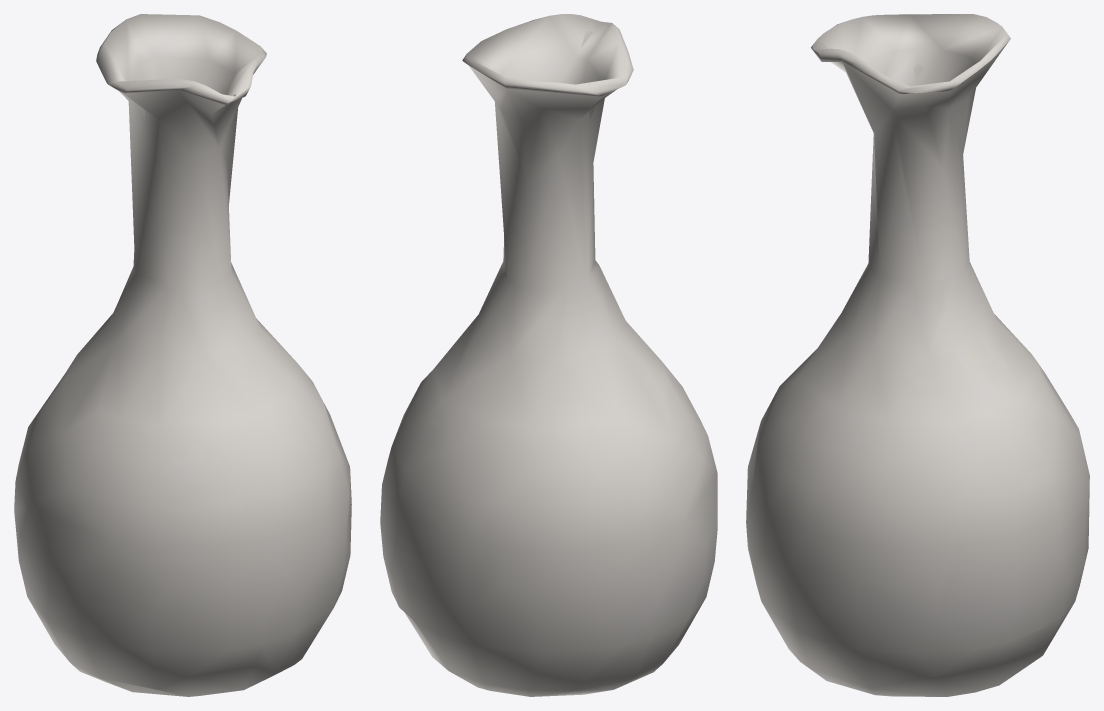
Rendered from ceramic_vase_01.glb.
The picture shows the model from 3 angles, left to right: view 1: azimuth 30°, elevation 25°; view 2: azimuth 150°, elevation 25°; view 3: azimuth 270°, elevation 25°; orthographic projection.
Parts seen in each view (by area): view 1: ceramic_vase_01; view 2: ceramic_vase_01; view 3: ceramic_vase_01.
Part boxes in pixels (<box>): ceramic_vase_01: <box>14,14,351,696</box>; ceramic_vase_01: <box>380,14,717,696</box>; ceramic_vase_01: <box>746,14,1089,696</box>.
Size of the model in its own units: 0.2022 by 0.3998 by 0.2018.
1 material, 1 textured.
